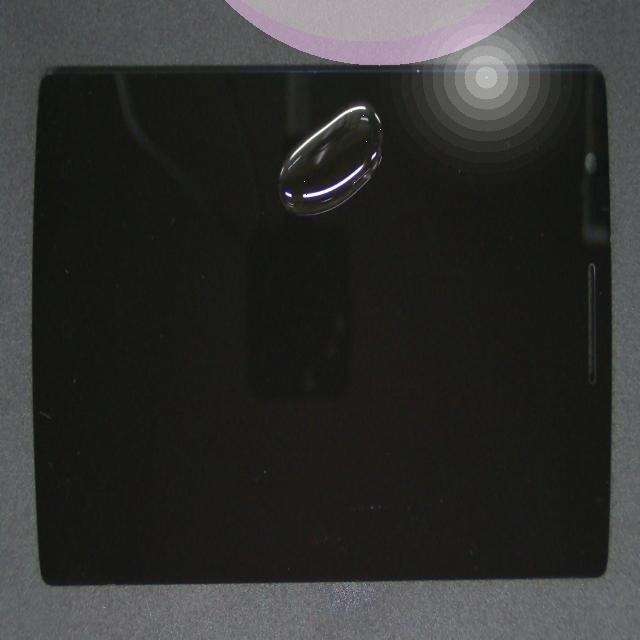oil: (179, 38, 462, 203)
